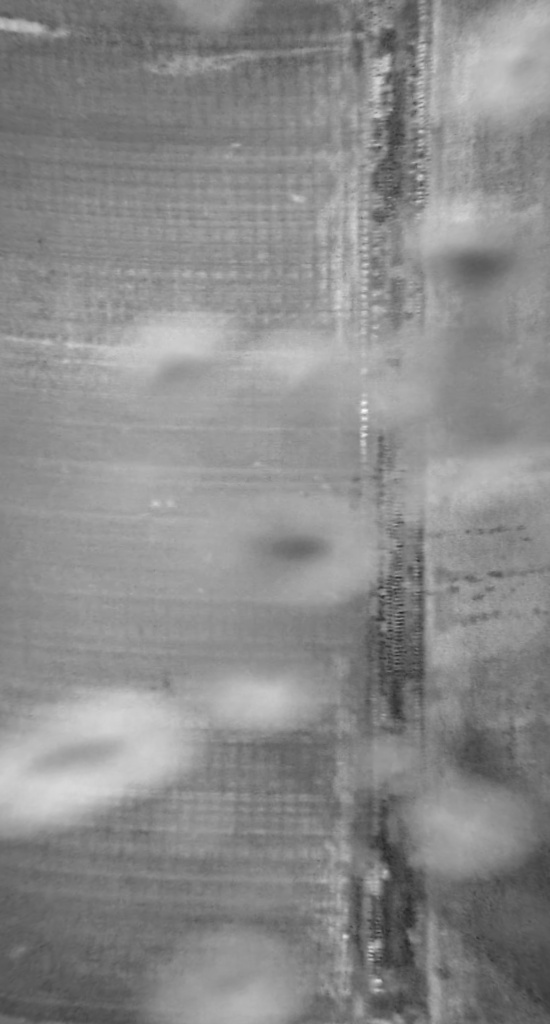splice: (349, 1, 436, 1024)
